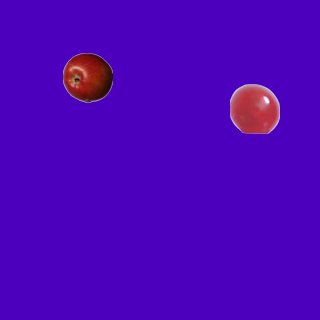Apple Braeburn: (62, 52, 112, 102)
Redcurrant: (229, 83, 279, 133)
